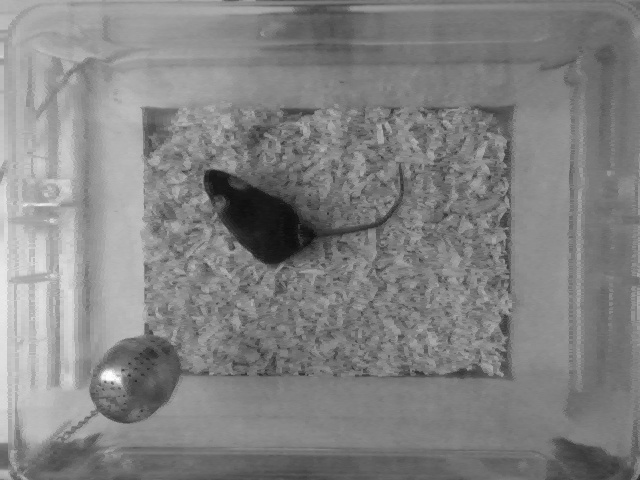mice: (202, 163, 408, 267)
